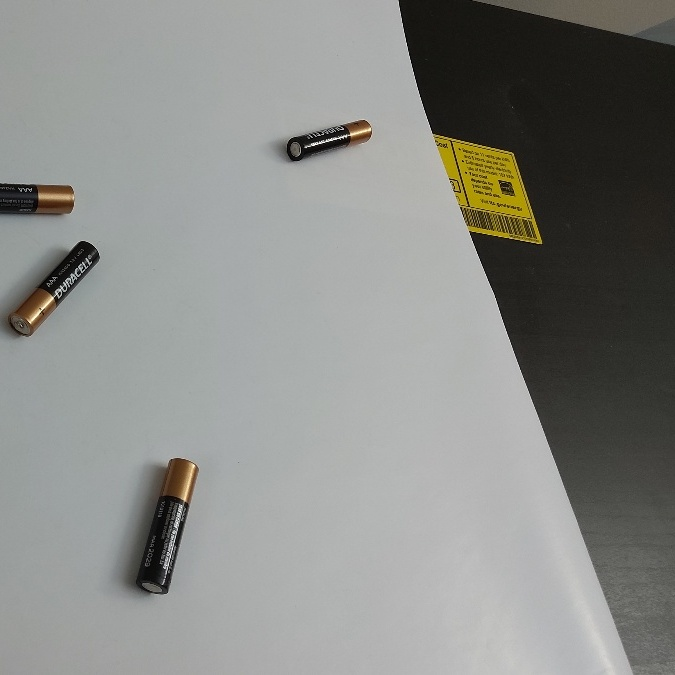battery: (128, 442, 204, 604), (5, 231, 104, 342), (282, 116, 374, 164)
